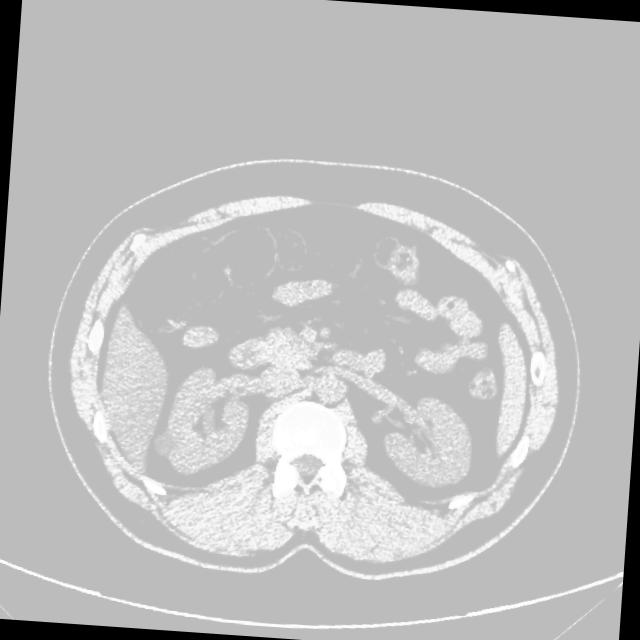cysts: (45, 155, 583, 592)
